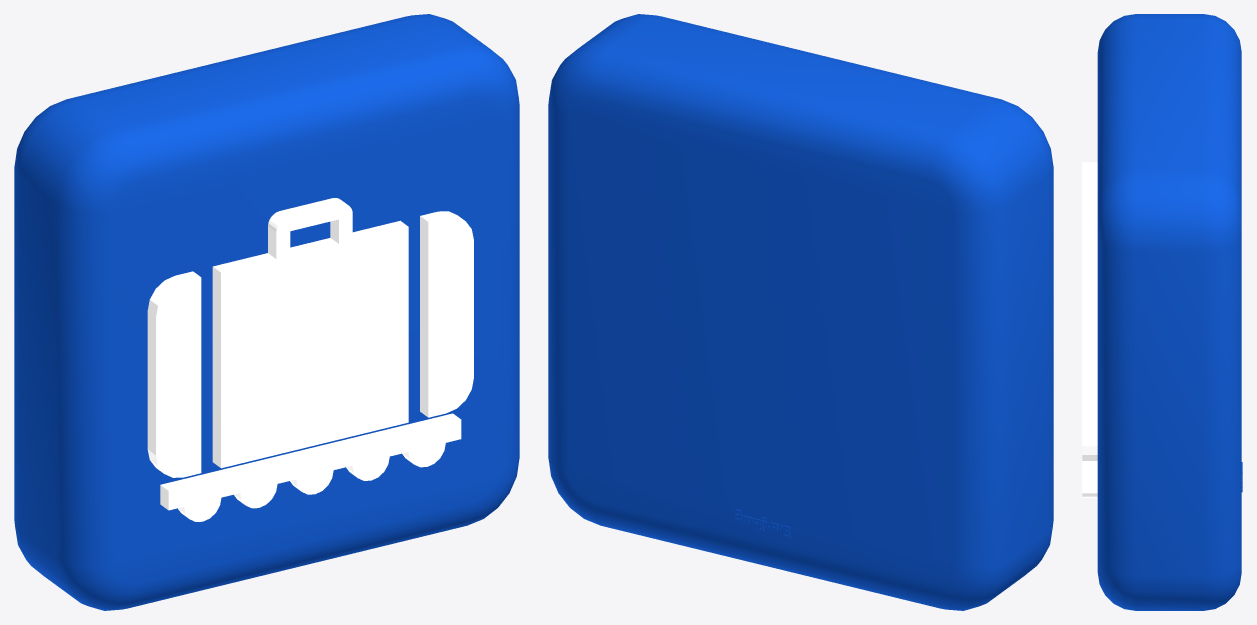
The model's file is baggage_claim.gltf.
3 renders of one model, left to right at view 1: azimuth 30°, elevation 25°; view 2: azimuth 150°, elevation 25°; view 3: azimuth 270°, elevation 25°, orthographic. The views are drawn at different scales.
Parts seen in each view (by area): view 1: Cube.302; view 2: Cube.302; view 3: Cube.302.
Part boxes in pixels (box(x1,y1,x2,y2)): Cube.302: box(14, 14, 519, 610); Cube.302: box(548, 14, 1053, 610); Cube.302: box(1082, 14, 1242, 610).
Size of the model in its own units: 2.2 by 2.2 by 0.7337.
Materials: 1 (1 with a texture image).
